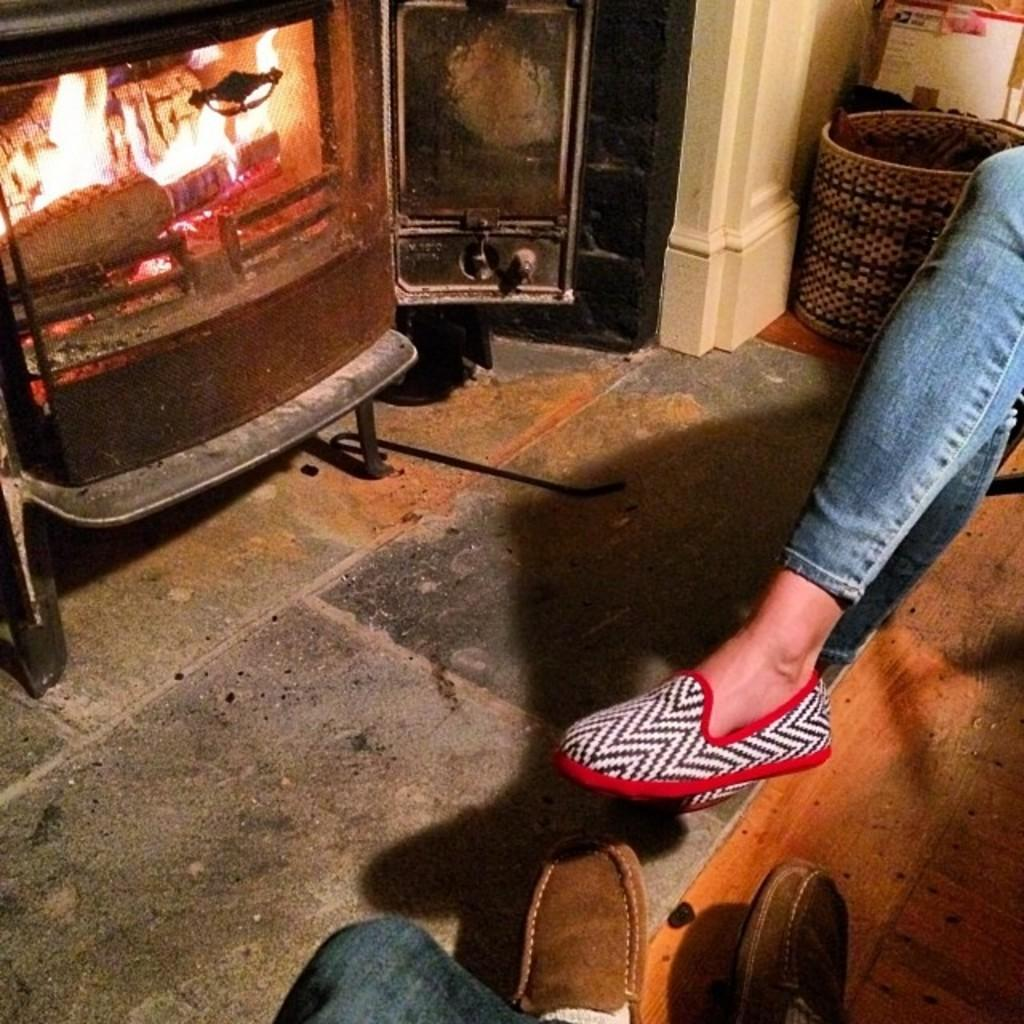Fire: (2, 2, 307, 223)
